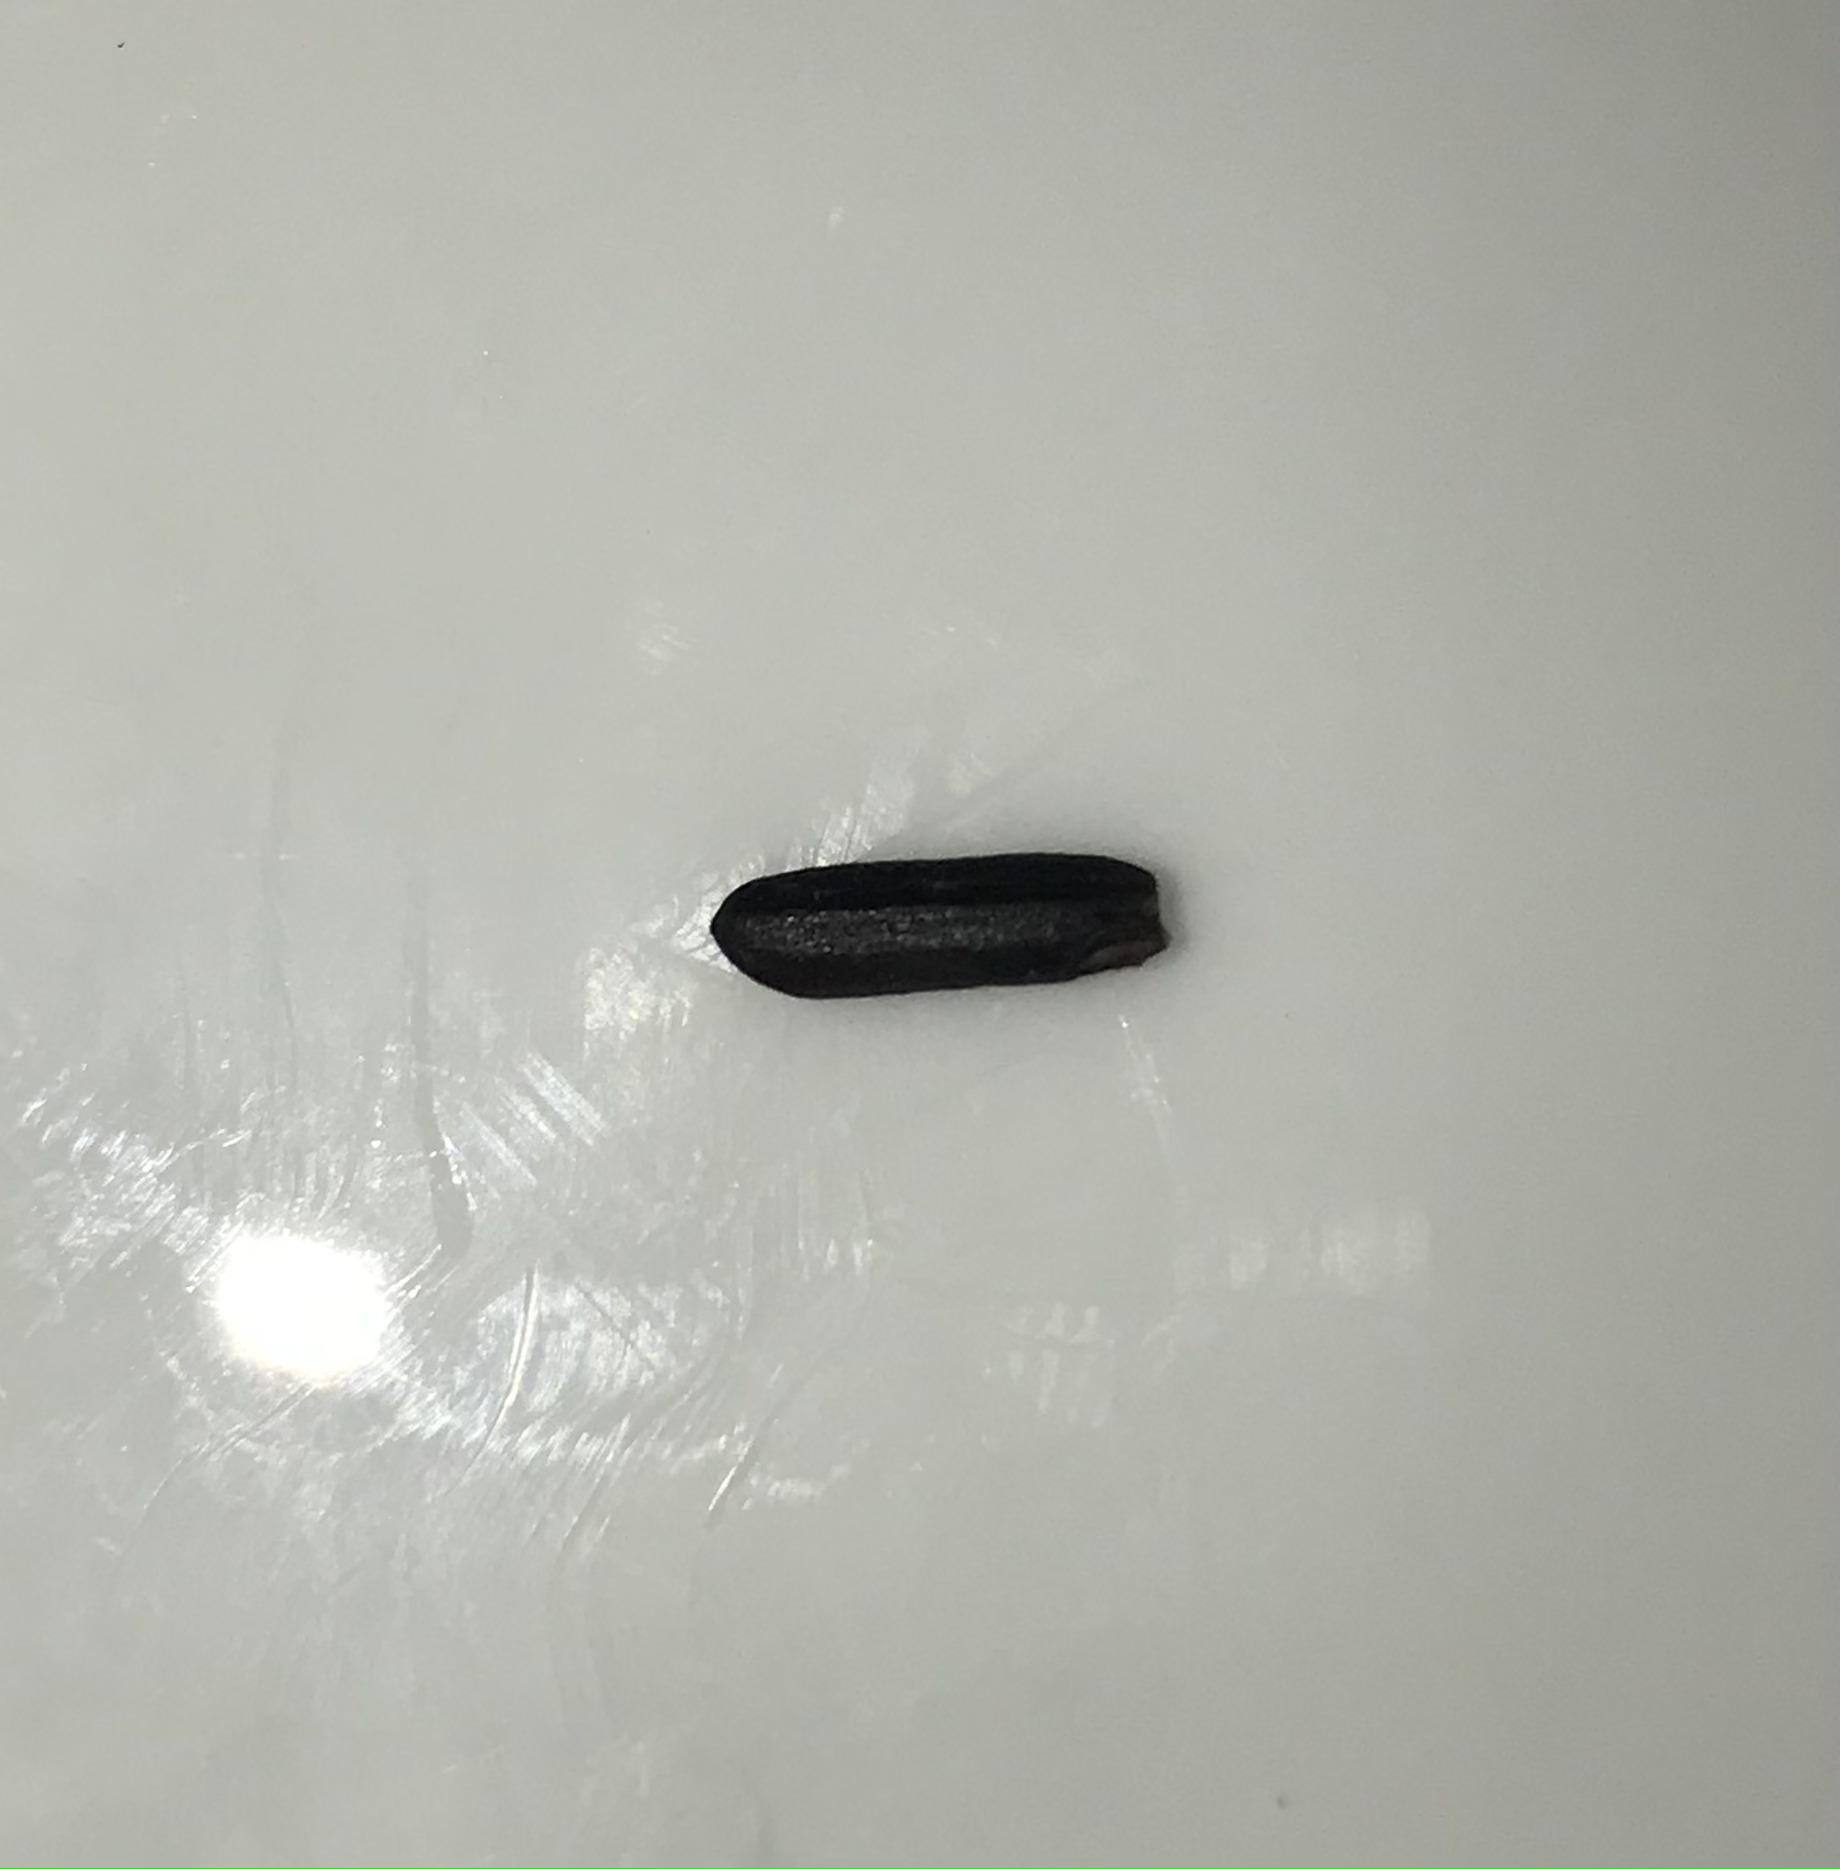Gao lut: (703, 849, 1190, 1004)
